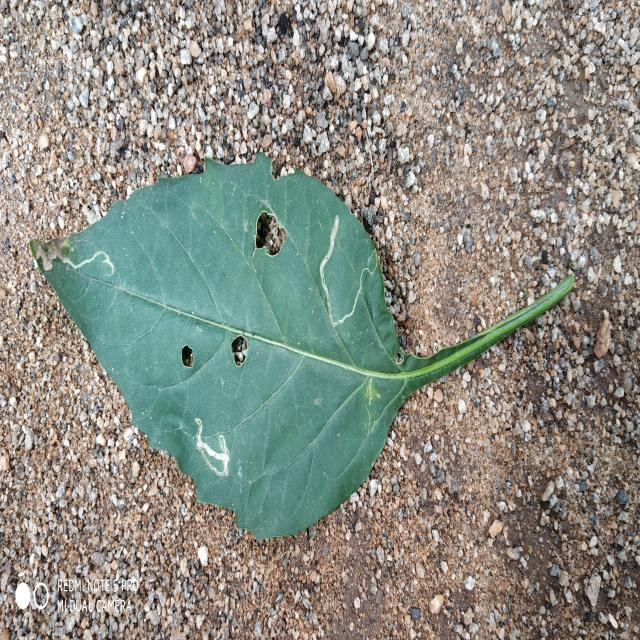ganike: (31, 153, 574, 538)
